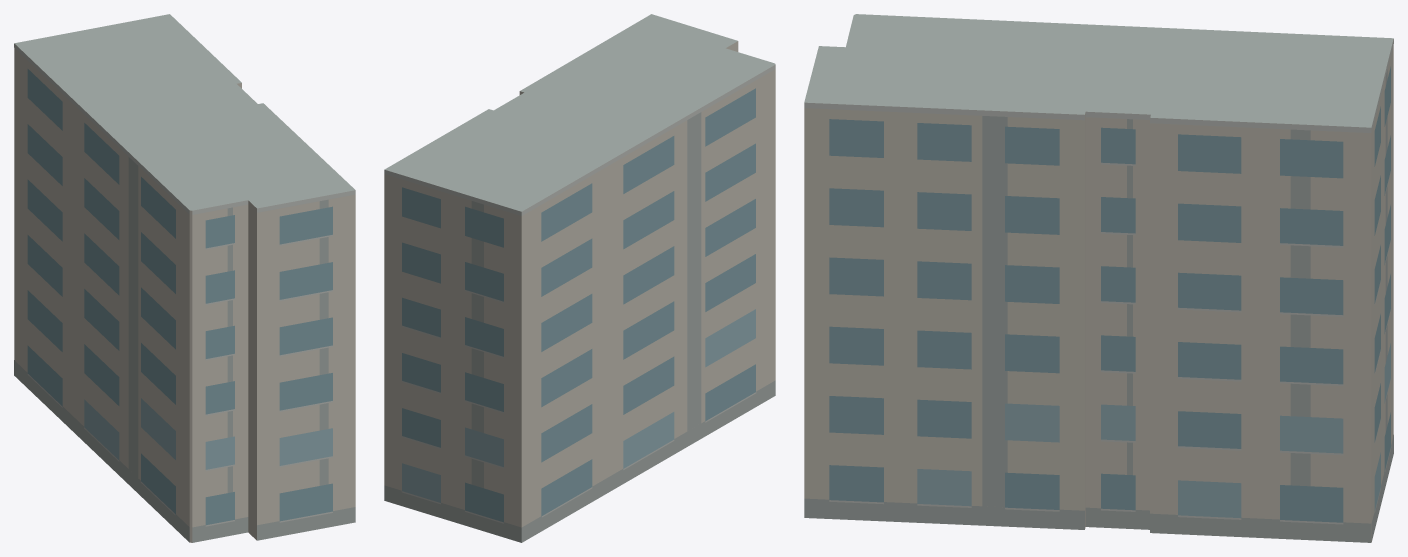
Rendered from survey-upis-32980184.glb.
The picture shows the model from 3 angles, left to right: view 1: azimuth 30°, elevation 25°; view 2: azimuth 150°, elevation 25°; view 3: azimuth 270°, elevation 25°; orthographic projection. The views are drawn at different scales.
Parts seen in each view (by area): view 1: survey-upis-32980184.tmp; view 2: survey-upis-32980184.tmp; view 3: survey-upis-32980184.tmp.
Part boxes in pixels (x1,y1,x2,y2): survey-upis-32980184.tmp: (14,14,355,542); survey-upis-32980184.tmp: (384,14,775,542); survey-upis-32980184.tmp: (804,14,1393,542).
Bounding box in the file's own units: 10.87 × 18.5 × 23.82.
